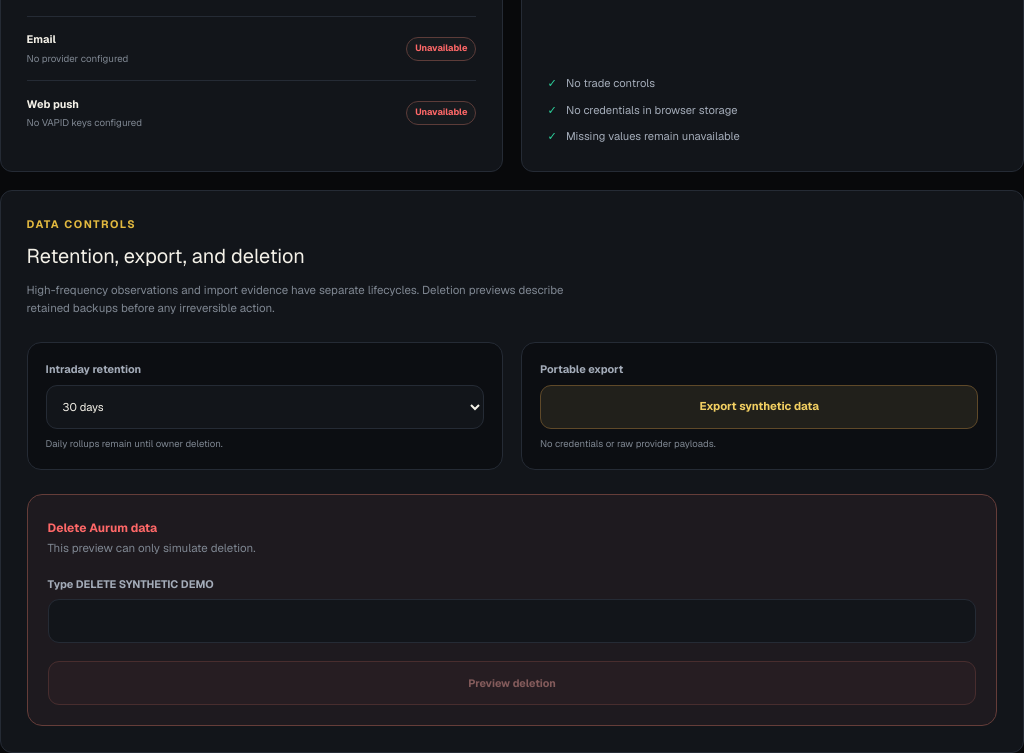
Scenario: SettingsScreen › shows fail-closed connected gates and requires exact deletion confirmation
(page scrolled)
Expected: the button "Preview deletion" is disabled, left=48, top=661, right=976, bottom=705
In the field labelled "Type DELETE SYNTHETIC DEMO": (512, 621) left=48, top=599, right=976, bottom=643, type "DELETE SYNTHETIC DEMO"
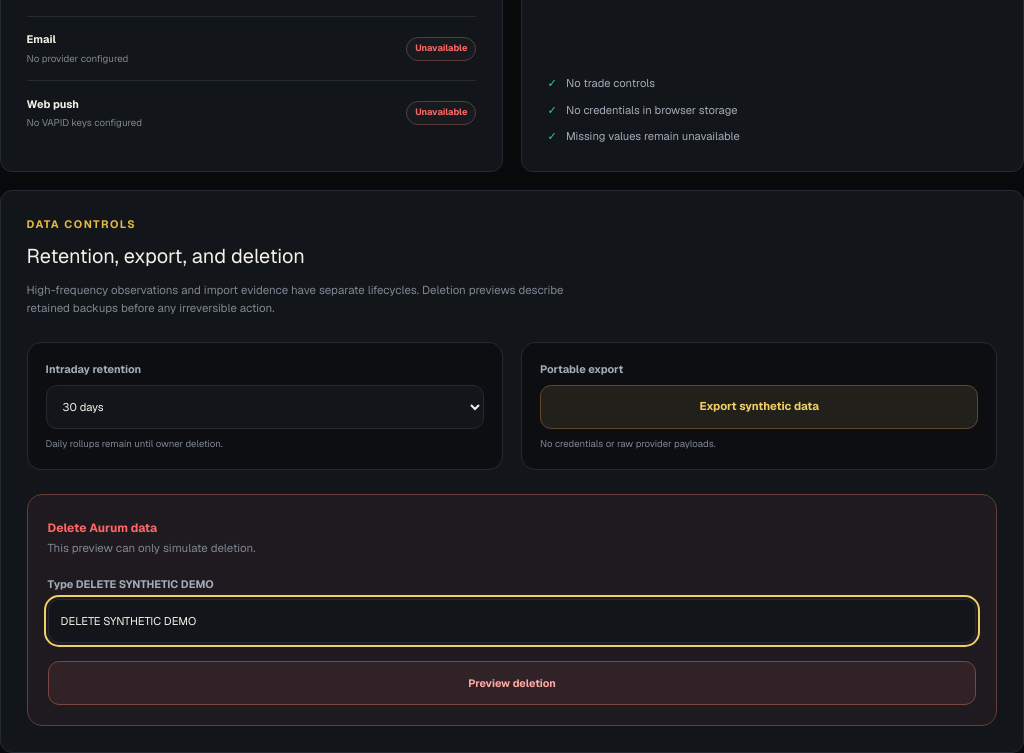
Expected: the button "Preview deletion" is enabled, left=48, top=661, right=976, bottom=705
